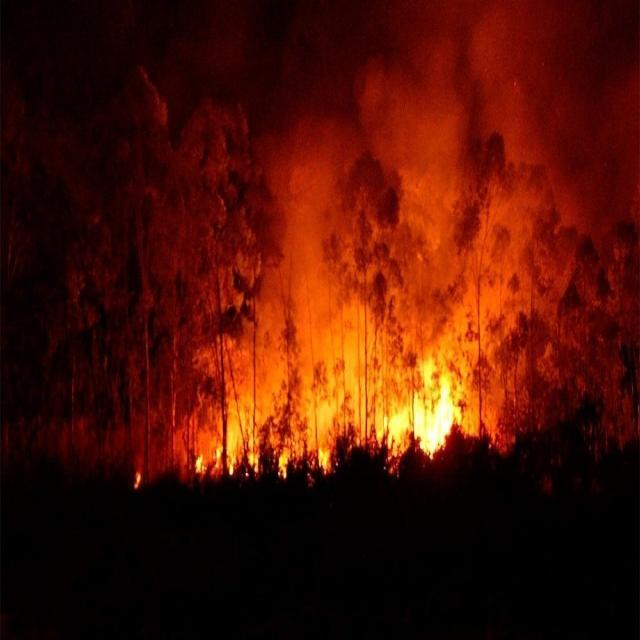Fire: (218, 366, 481, 472), (195, 451, 206, 478), (134, 466, 146, 488)
Smoke: (236, 41, 578, 324)
